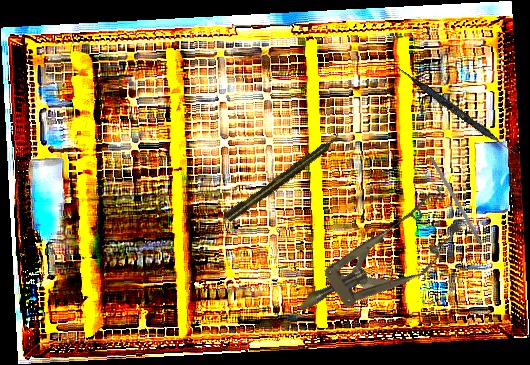Handpiece: (221, 130, 346, 225)
Hook Surgical: (421, 142, 485, 245)
Spatula Surgical: (393, 64, 524, 161)
Speculum: (282, 185, 474, 338)
